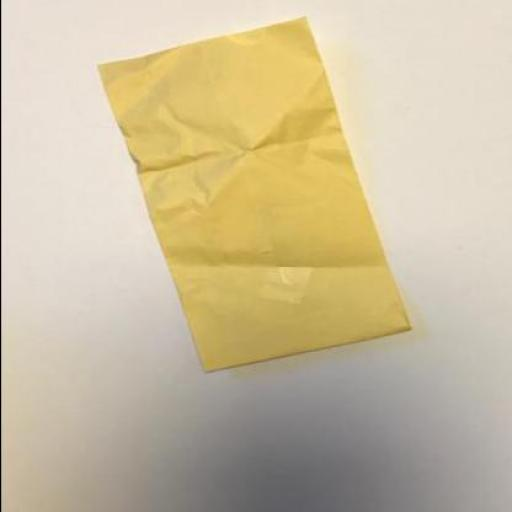paper: (94, 16, 407, 373)
